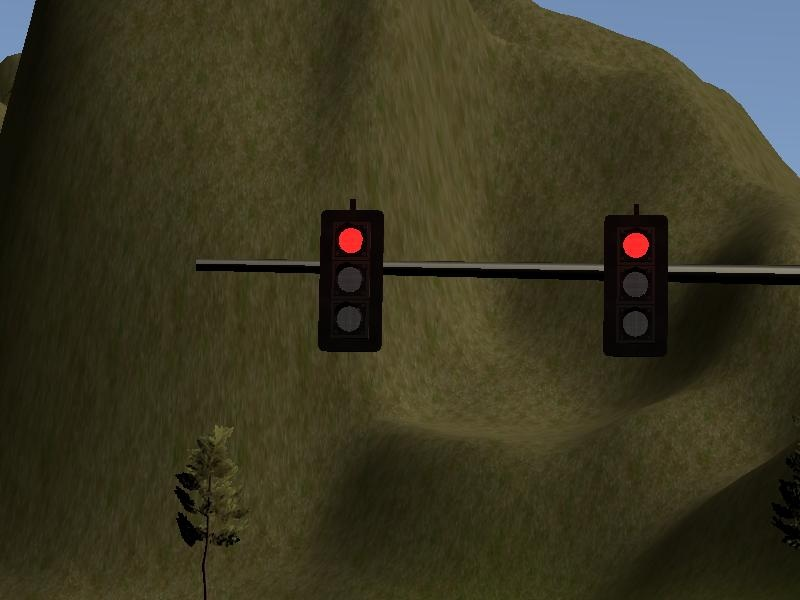RED: (604, 214, 667, 358), (320, 209, 383, 353)
